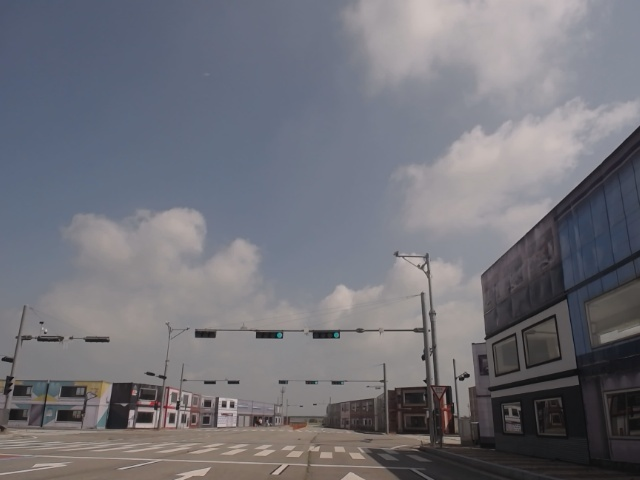straight_green_4: (312, 329, 342, 340), (257, 330, 284, 340)
